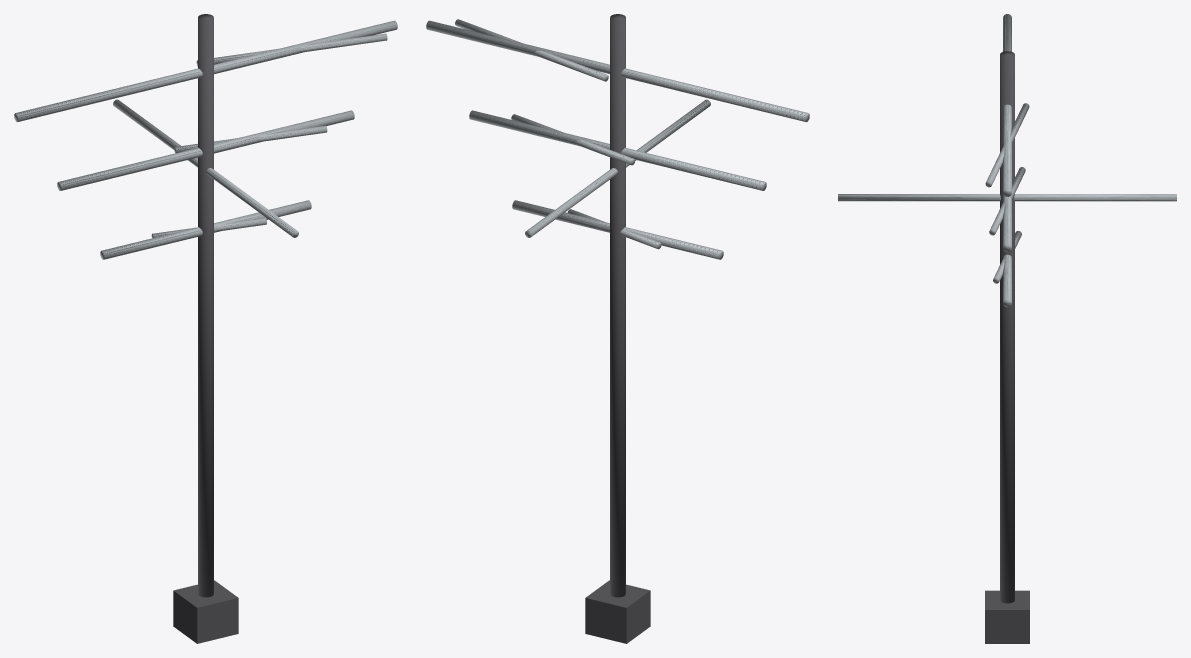
Rendered from WK_STR_TVAntenna.glb.
3 renders of one model, left to right at view 1: azimuth 30°, elevation 25°; view 2: azimuth 150°, elevation 25°; view 3: azimuth 270°, elevation 25°, orthographic. The views are drawn at different scales.
Visible parts, largest first — view 1: WK_STR_TVAntenna_P01, WK_STR_TVAntenna_P03, WK_STR_TVAntenna_P02, WK_STR_TVAntenna_P05, WK_STR_TVAntenna_P07, WK_STR_TVAntenna_P09, WK_STR_TVAntenna_P04, WK_STR_TVAntenna_P06; view 2: WK_STR_TVAntenna_P01, WK_STR_TVAntenna_P03, WK_STR_TVAntenna_P02, WK_STR_TVAntenna_P05, WK_STR_TVAntenna_P07, WK_STR_TVAntenna_P09, WK_STR_TVAntenna_P04, WK_STR_TVAntenna_P06; view 3: WK_STR_TVAntenna_P01, WK_STR_TVAntenna_P09, WK_STR_TVAntenna_P02, WK_STR_TVAntenna_P03, WK_STR_TVAntenna_P04, WK_STR_TVAntenna_P05.
Part boxes in pixels (x1,y1,x2,y2): WK_STR_TVAntenna_P01: [198, 14, 213, 597]; WK_STR_TVAntenna_P03: [14, 20, 397, 122]; WK_STR_TVAntenna_P02: [173, 580, 238, 643]; WK_STR_TVAntenna_P05: [57, 110, 354, 190]; WK_STR_TVAntenna_P07: [100, 200, 311, 259]; WK_STR_TVAntenna_P09: [113, 99, 298, 237]; WK_STR_TVAntenna_P04: [196, 33, 387, 66]; WK_STR_TVAntenna_P06: [174, 125, 327, 153]; WK_STR_TVAntenna_P01: [610, 14, 625, 597]; WK_STR_TVAntenna_P03: [426, 20, 809, 122]; WK_STR_TVAntenna_P02: [585, 580, 650, 643]; WK_STR_TVAntenna_P05: [469, 110, 766, 190]; WK_STR_TVAntenna_P07: [512, 200, 723, 259]; WK_STR_TVAntenna_P09: [525, 99, 710, 237]; WK_STR_TVAntenna_P04: [455, 19, 608, 81]; WK_STR_TVAntenna_P06: [511, 114, 634, 165]; WK_STR_TVAntenna_P01: [1000, 51, 1014, 603]; WK_STR_TVAntenna_P09: [838, 194, 1176, 201]; WK_STR_TVAntenna_P02: [985, 590, 1029, 643]; WK_STR_TVAntenna_P03: [1003, 14, 1011, 196]; WK_STR_TVAntenna_P04: [985, 103, 1029, 187]; WK_STR_TVAntenna_P05: [1003, 194, 1011, 252].
Size of the model in its own units: 1.1 by 1.7 by 0.9.
Materials: 2 (1 with a texture image).
